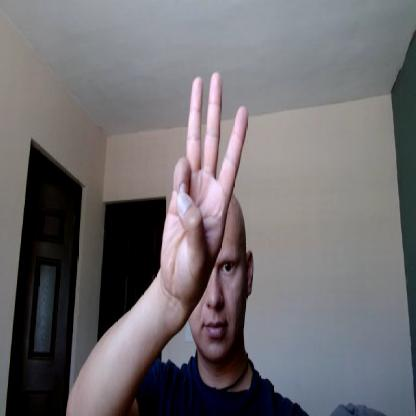W: (160, 72, 248, 305)
